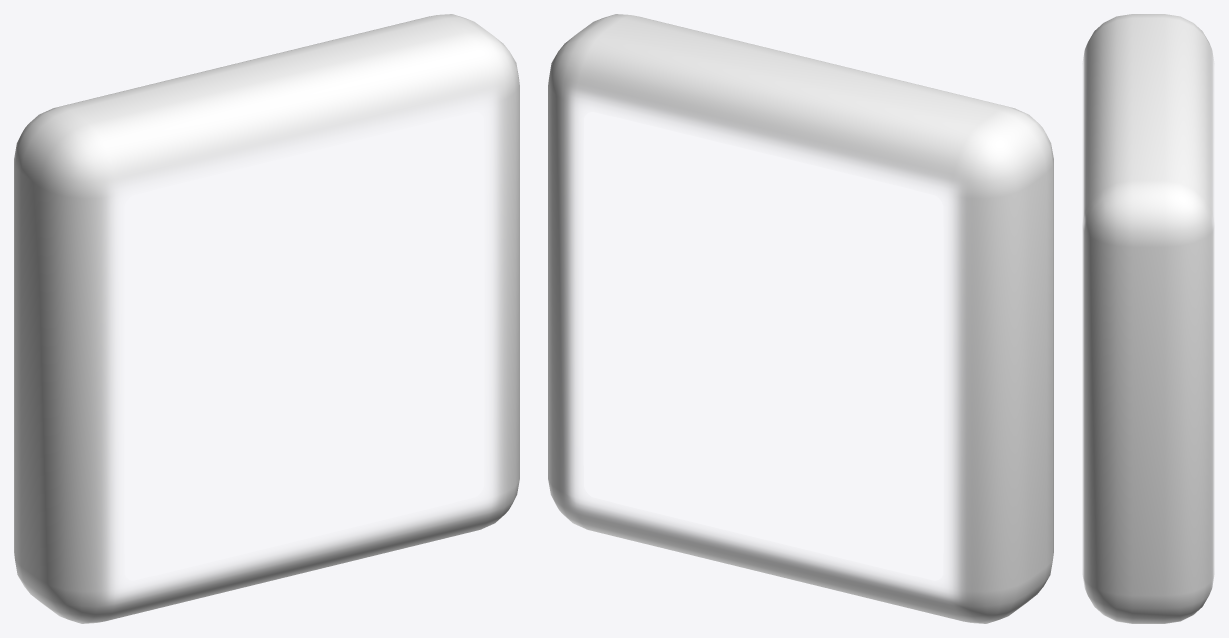
Rendered from pickup.glb.
The picture shows the model from 3 angles, left to right: view 1: azimuth 30°, elevation 25°; view 2: azimuth 150°, elevation 25°; view 3: azimuth 270°, elevation 25°; orthographic projection. The views are drawn at different scales.
Visible parts, largest first — view 1: Cube; view 2: Cube; view 3: Cube.
Part boxes in pixels (x1,y1,x2,y2): Cube: (14, 14, 519, 623); Cube: (548, 14, 1053, 623); Cube: (1082, 14, 1214, 623).
Bounding box in the file's own units: 1.06 × 1.06 × 0.2907.
1 material, 1 textured.
